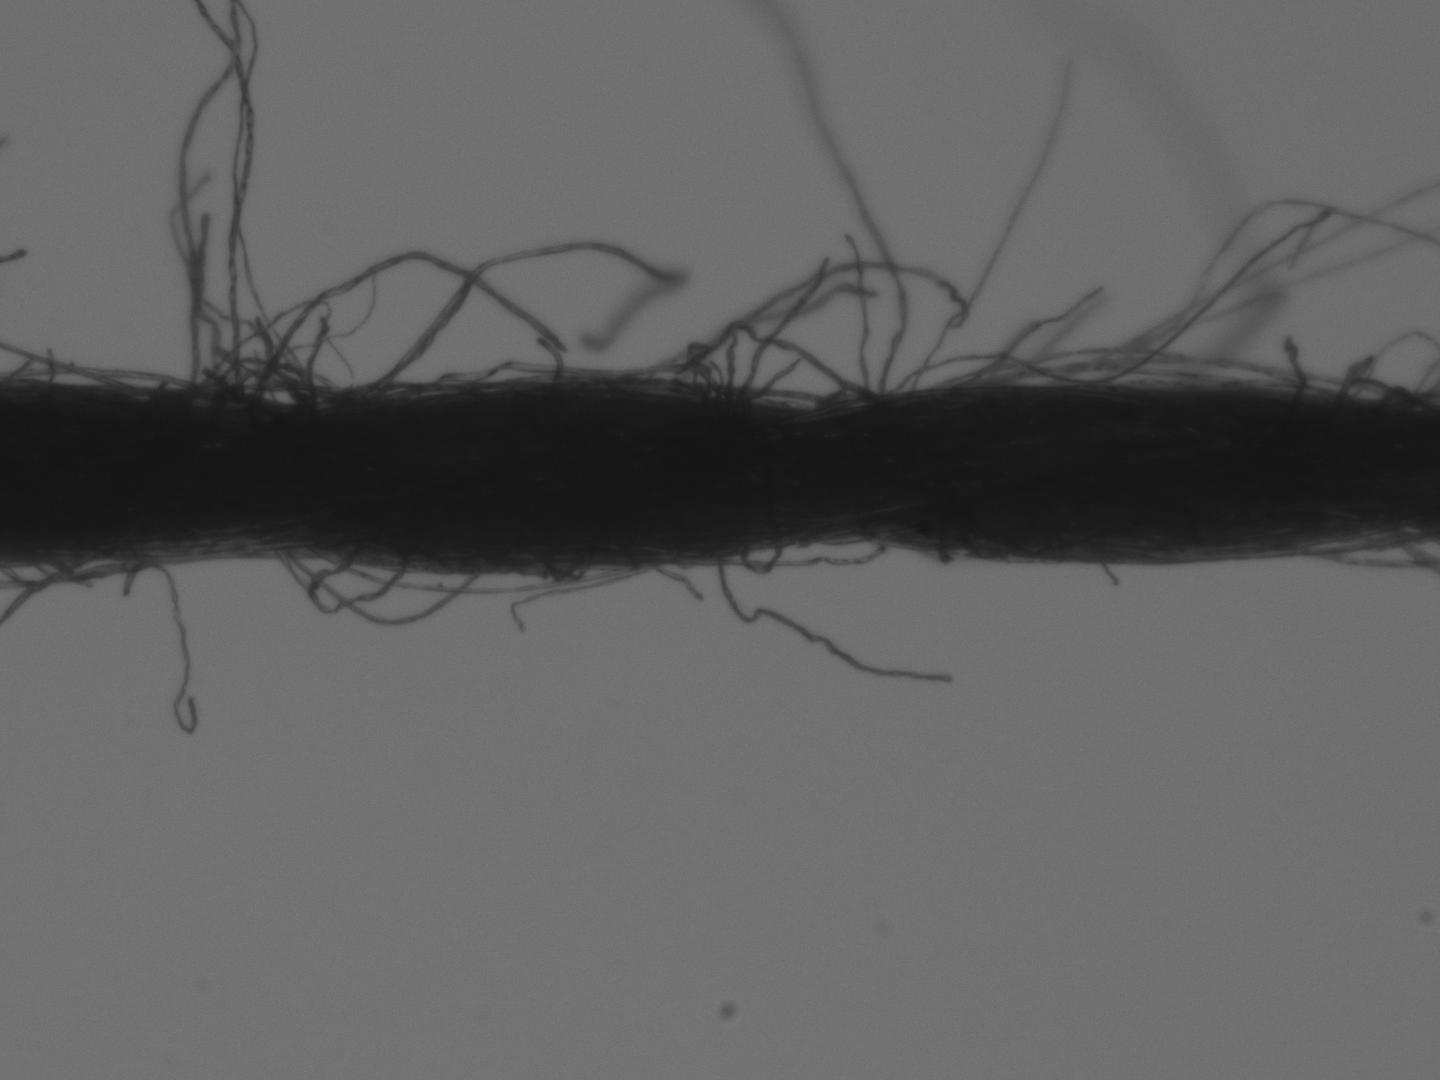loop_fiber: (939, 344, 1328, 398), (667, 315, 872, 411), (282, 557, 491, 628), (329, 558, 654, 600), (306, 533, 416, 622), (198, 346, 325, 400), (703, 539, 887, 569), (1338, 357, 1426, 405), (812, 381, 887, 415), (742, 538, 788, 579)
protruding_fiber: (715, 550, 971, 691), (838, 220, 882, 403)
